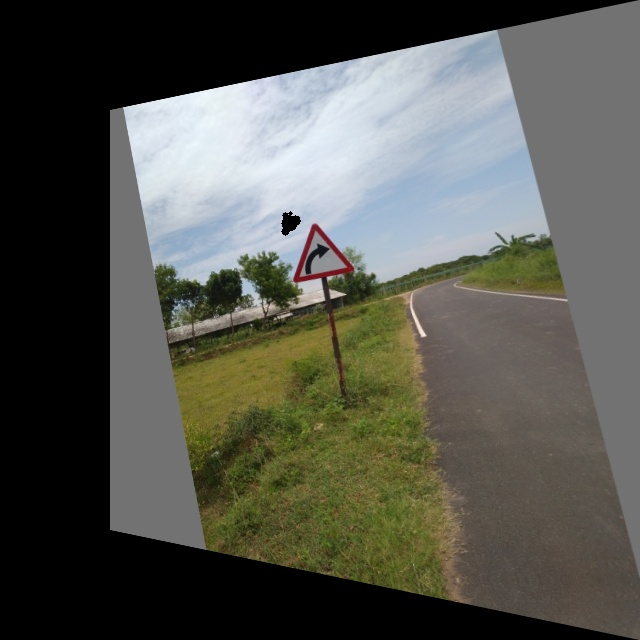Right_Hand_Curve: (283, 214, 352, 286)
